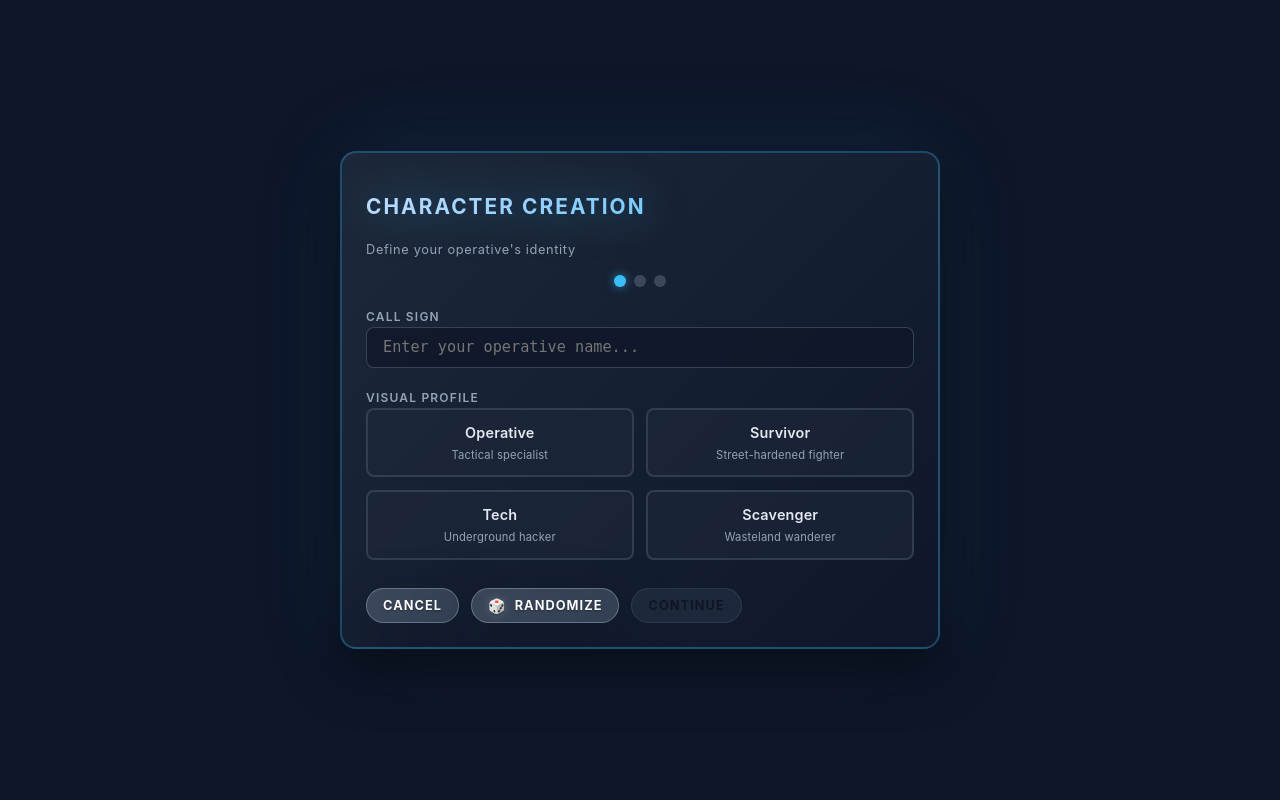
Test: CharacterCreationScreen › displays validation error for unsupported characters but keeps input value
The image size is (1280, 800).
In the field with placeholder "Enter your operative name...": (640, 348) x1=366 y1=327 x2=914 y2=368, type "Nova!"
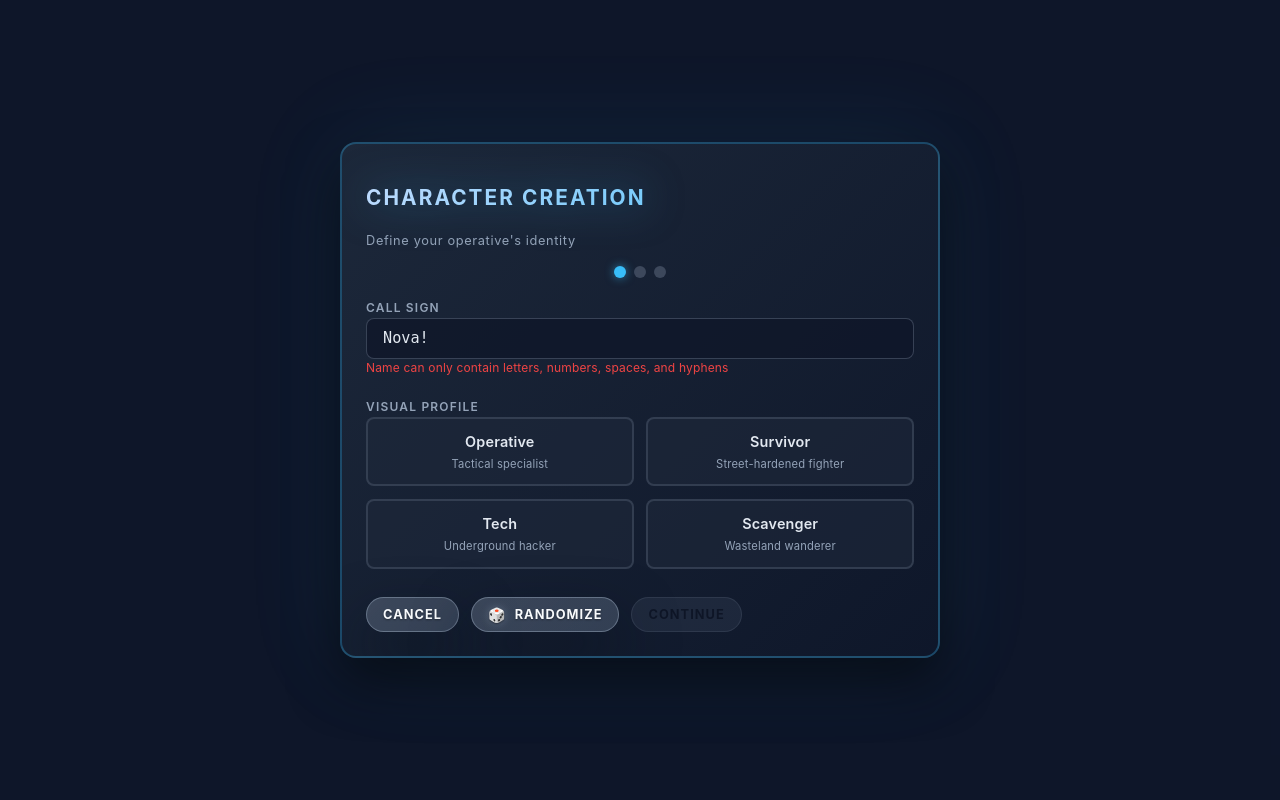
expect the text "Name can only contain letters, numbers, spaces, and hyphens" is shown: met, box x1=366 y1=360 x2=729 y2=375
